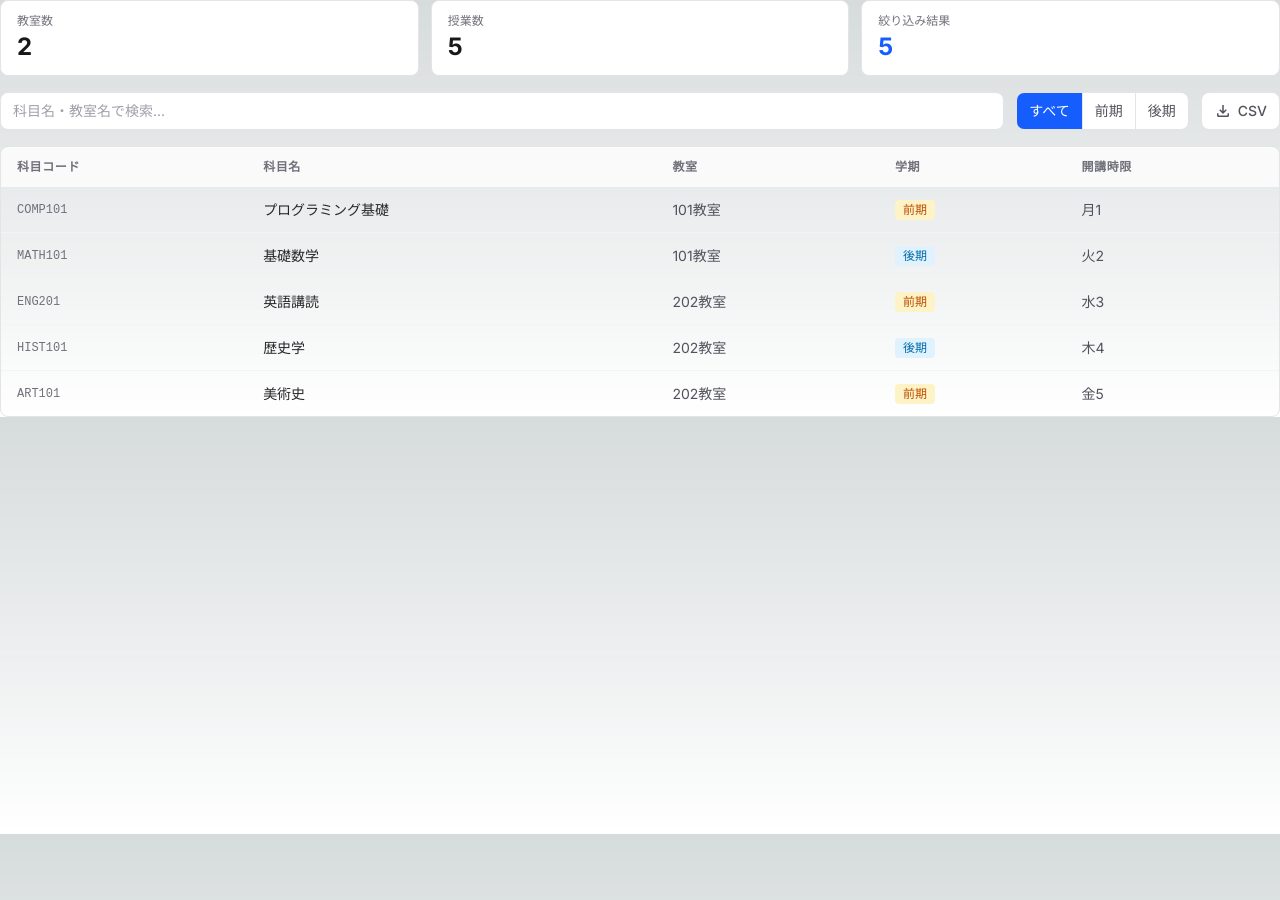
Scenario: SyllabusDataBrowser Component › Filtering › filters correctly by season
Click the button "前期": click(1108, 111) x1=1082 y1=93 x2=1135 y2=129
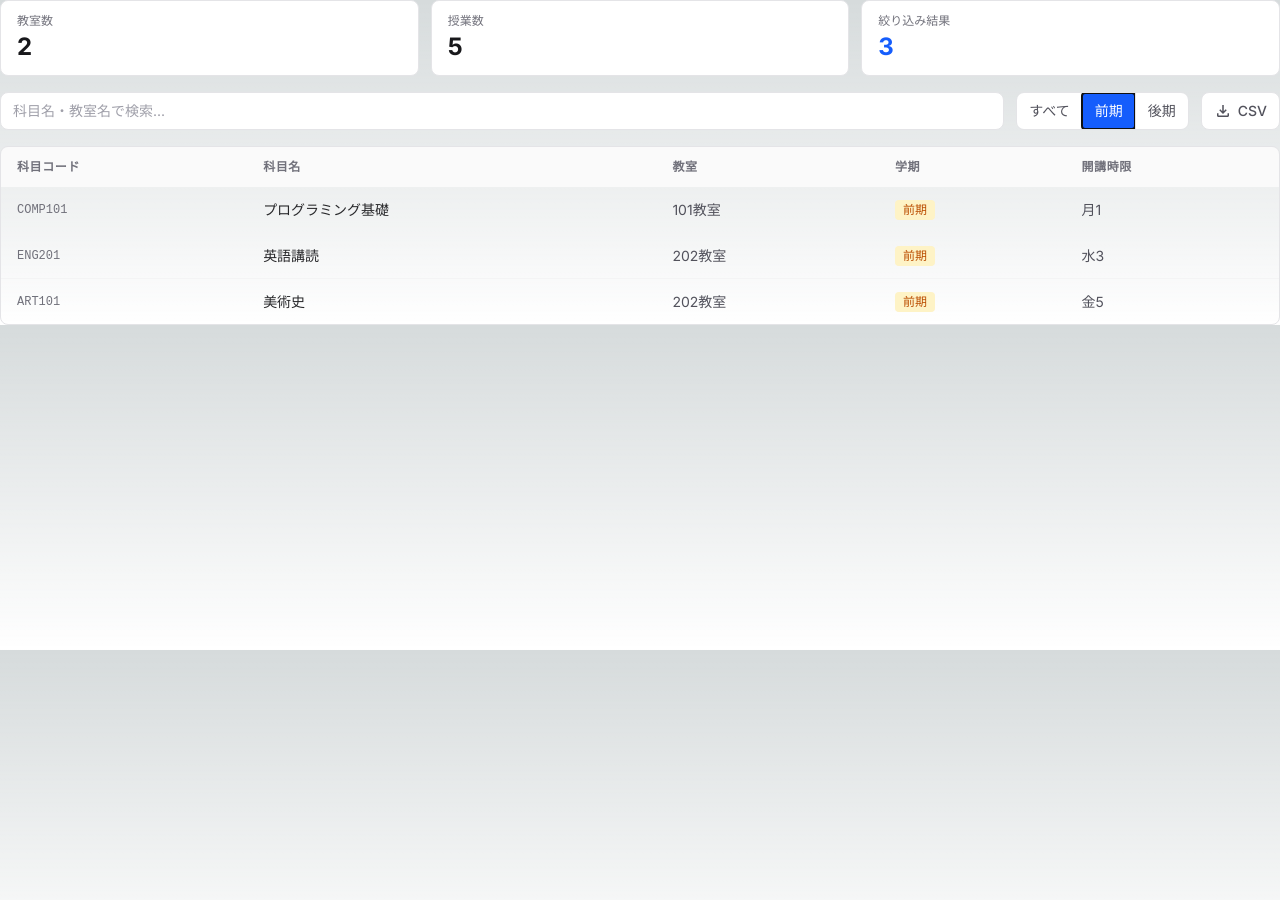
Expected: the text "プログラミング基礎" is shown, x1=247 y1=187 x2=656 y2=232
Expected: the text "基礎数学" is gone
Expected: the text "歴史学" is gone
